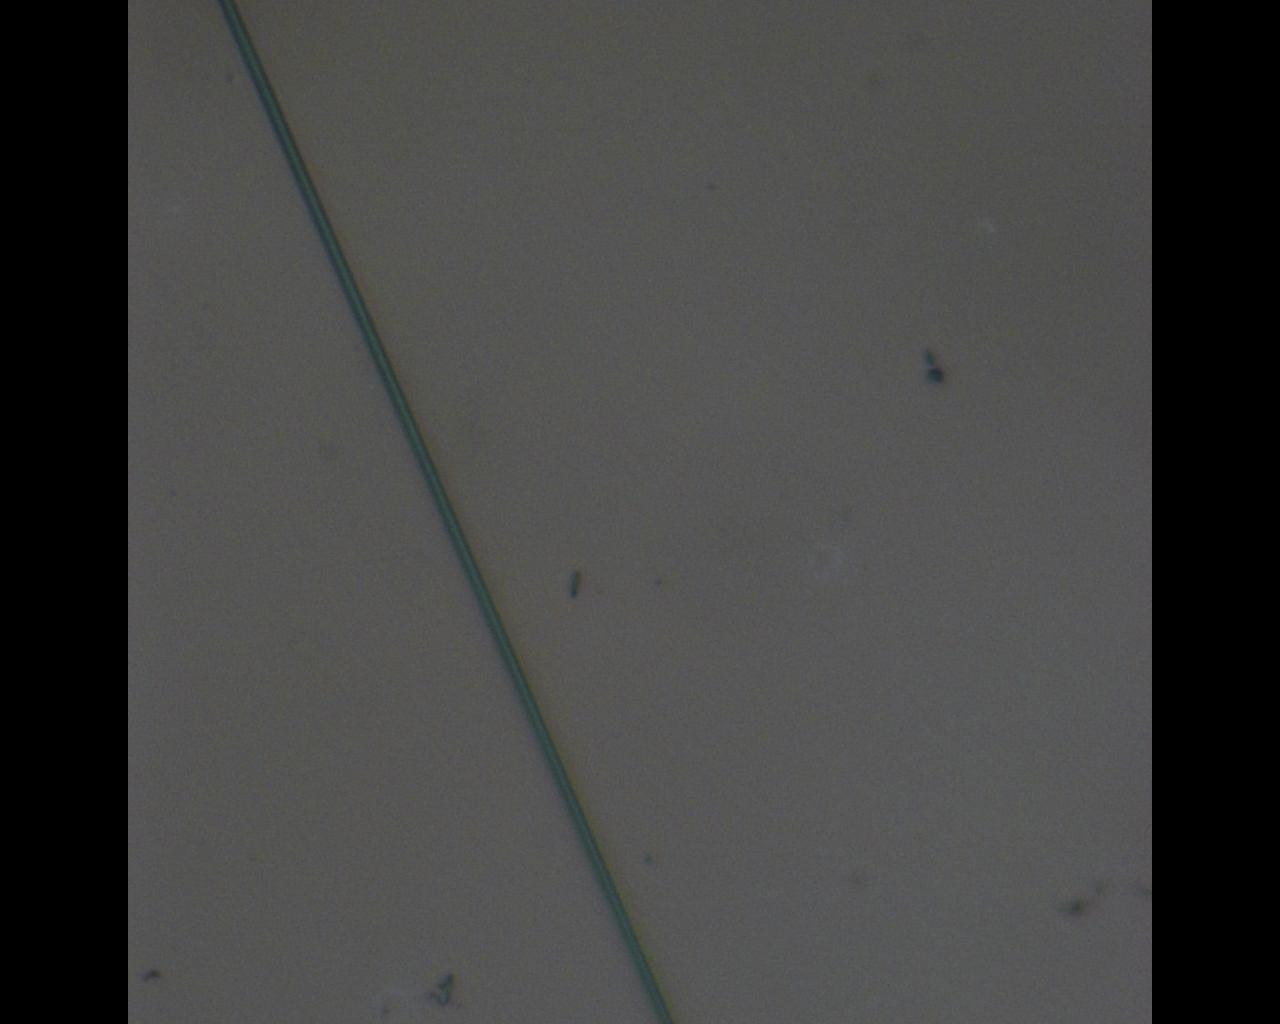fiber: (215, 0, 678, 1024)
